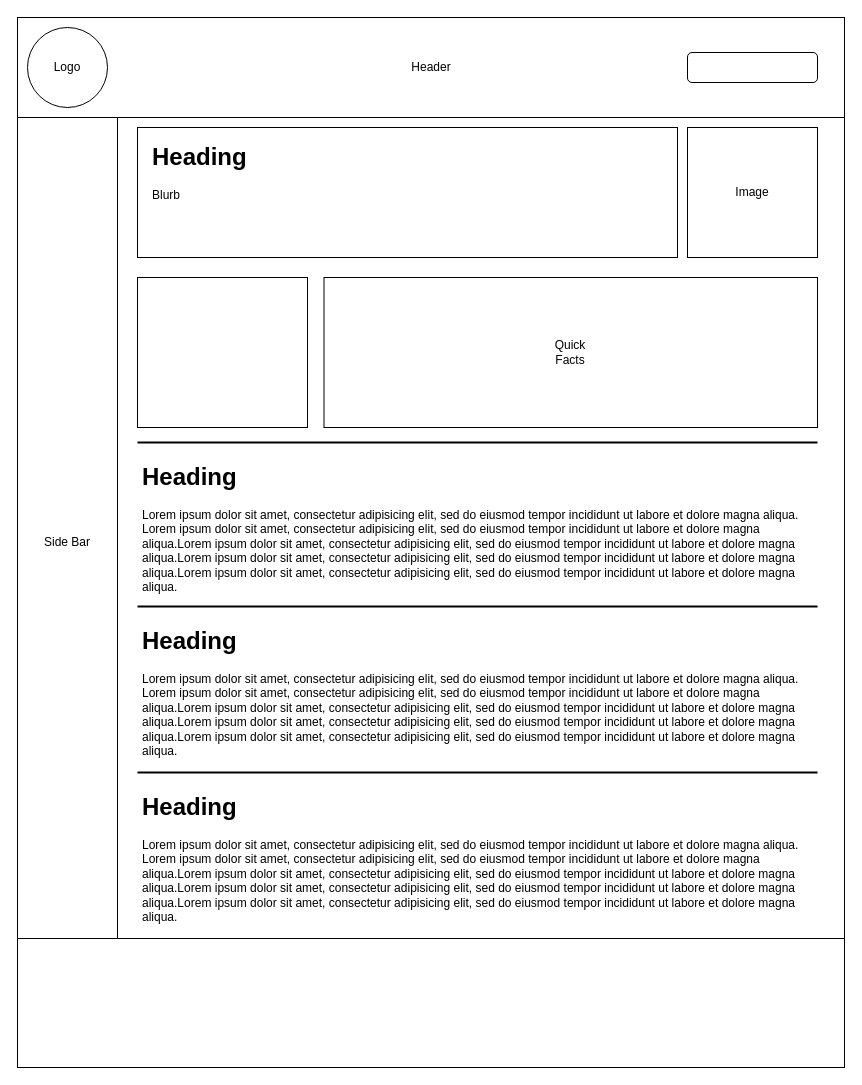
Image size: 862x1085. Some labels were removed from this diagram. The centre of each missing label's shape, as x and y in pixels:
Contents: (x=222, y=352)
Footer: (x=430, y=1003)
Search: (x=752, y=67)
